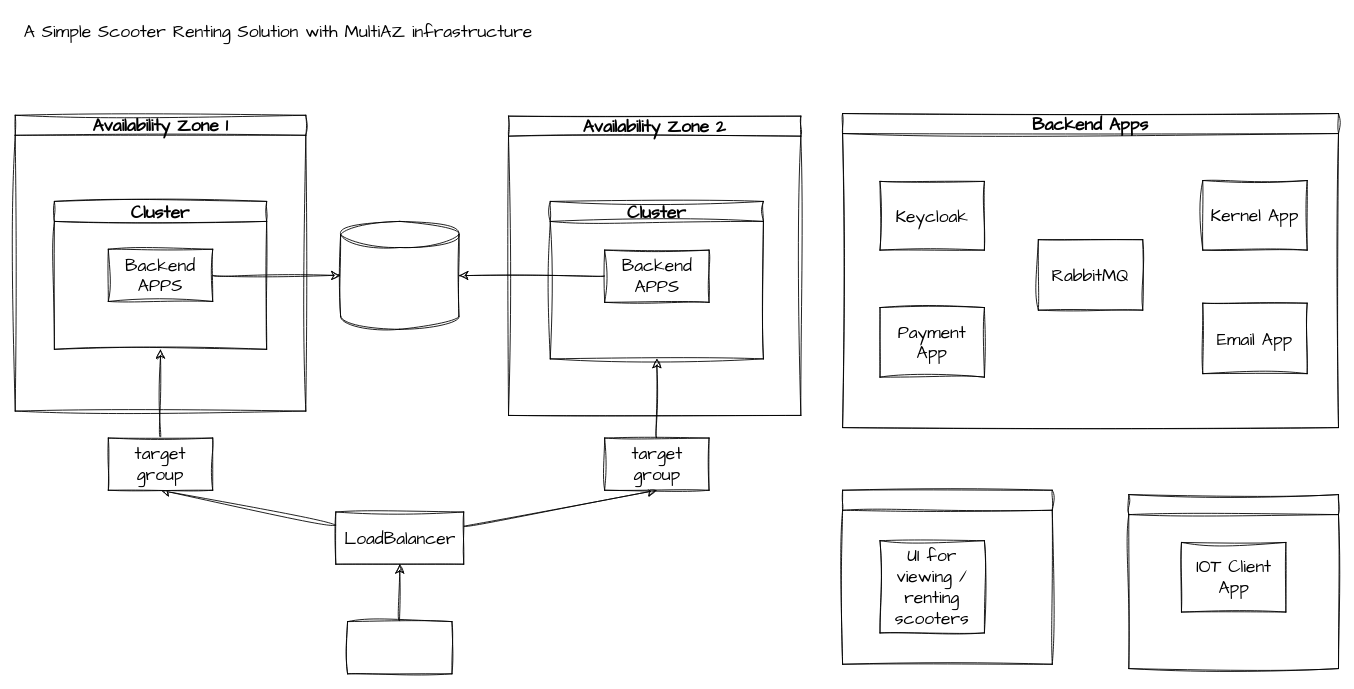
Some shapes in this 1354 by 689 pixel diagram are drawn without their labels. The box of each missing label's shape, as (x1, y1, x2, y2) in pixels:
API GW: (347, 621, 452, 674)
DB Host (MultiAZ): (340, 221, 459, 329)
FrontEnd Apps: (842, 489, 1052, 664)
IOT Device Apps: (1128, 494, 1338, 669)
